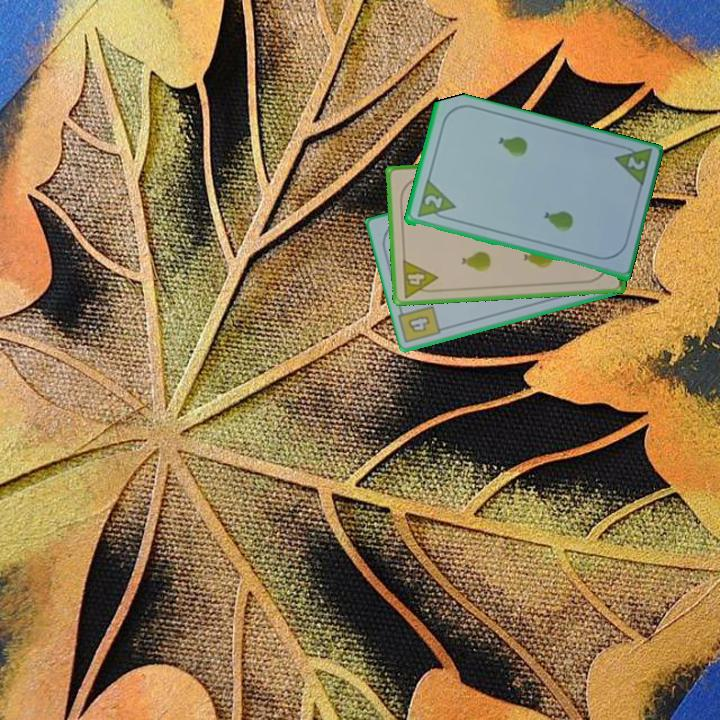2p: (610, 141, 655, 191), (420, 191, 445, 212)
4b: (404, 312, 433, 336)
4p: (399, 256, 441, 300)
